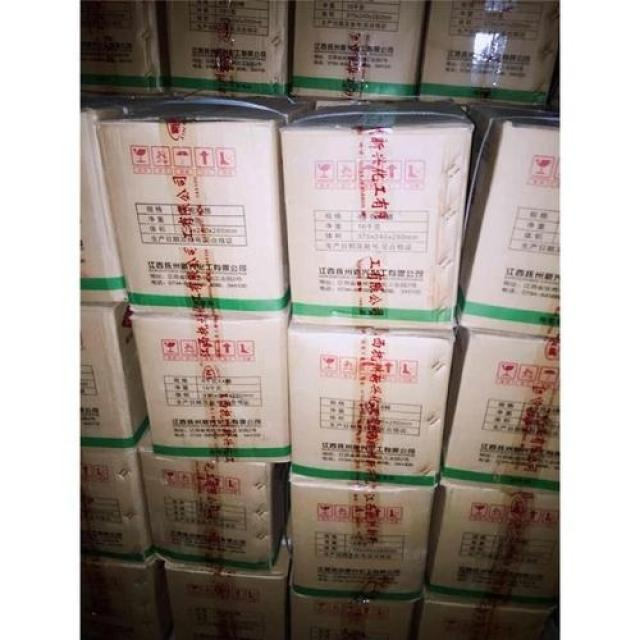box: (93, 95, 312, 314), (280, 100, 471, 332), (287, 326, 454, 485), (454, 104, 558, 339), (131, 312, 287, 465), (138, 431, 289, 571), (82, 90, 182, 301), (441, 327, 558, 492), (288, 477, 440, 603), (424, 486, 558, 611), (159, 522, 289, 640), (416, 1, 558, 105), (289, 1, 428, 99), (161, 0, 292, 100), (81, 301, 151, 452), (82, 449, 159, 564), (79, 1, 164, 92), (81, 557, 173, 639), (287, 593, 424, 637), (412, 604, 552, 637)
